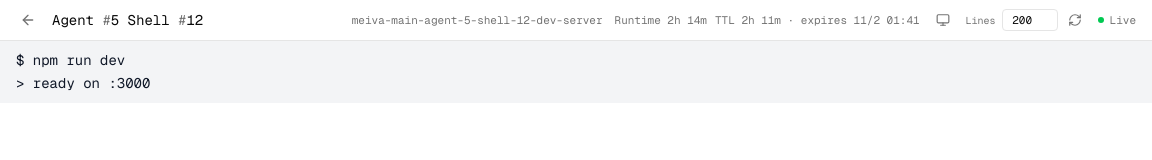
Test: ShellMonitorPage › stale-while-error: a failed poll keeps the last output and flips the dot to 'stale'
Expected: the text "$ npm run dev > ready on :3000" is shown, [16, 51, 150, 92]
Expected: the text "Live" is shown, [1098, 12, 1136, 28]
Click the button named "Refresh shell output".
click(1075, 20)  # box [1064, 9, 1086, 31]
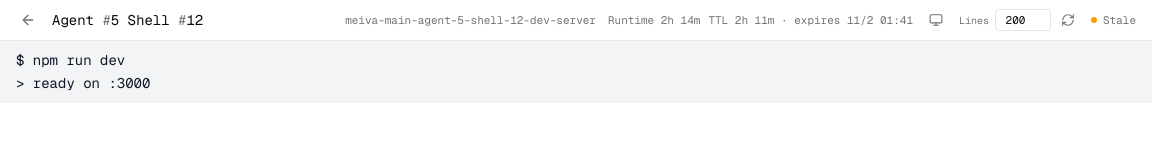
Expected: the text "$ npm run dev > ready on :3000" is shown, [16, 51, 150, 92]
Result: the text "Stale" is shown at [1091, 12, 1136, 28]
